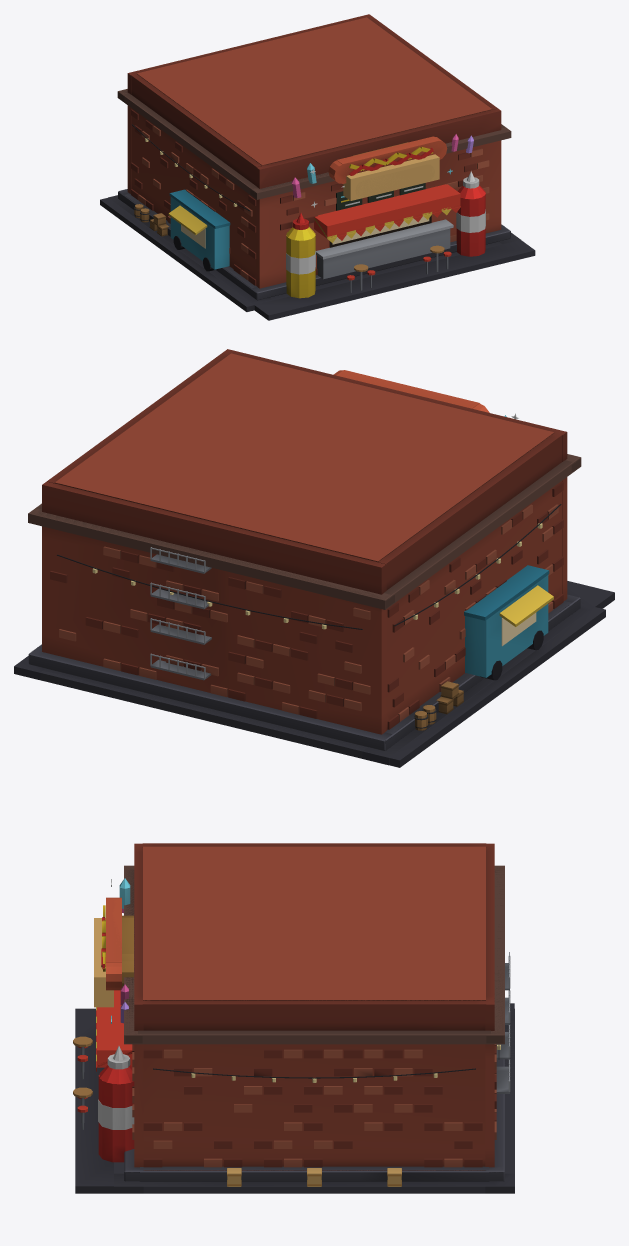
The model's file is CrystalHotDogFloor.fbx.
3 renders of one model, top to bottom at view 1: azimuth 30°, elevation 25°; view 2: azimuth 150°, elevation 25°; view 3: azimuth 270°, elevation 25°, orthographic. The views are drawn at different scales.
Visible parts, largest first — view 1: HD_S_All, HD_F_Rings, HD_F_Smooth, HD_F_Quiet, HD_F_Props, HD_F_Glass; view 2: HD_F_Rings, HD_S_All, HD_F_Smooth, HD_F_Quiet, HD_F_Props, HD_F_Glass; view 3: HD_S_All, HD_F_Rings, HD_F_Smooth, HD_F_Quiet, HD_F_Props.
Part boxes in pixels (<box>): HD_S_All: <box>109,17,511,309</box>; HD_F_Rings: <box>119,14,504,298</box>; HD_F_Smooth: <box>100,92,535,320</box>; HD_F_Quiet: <box>100,189,534,315</box>; HD_F_Props: <box>150,169,485,274</box>; HD_F_Glass: <box>145,134,473,248</box>; HD_F_Rings: <box>30,349,572,734</box>; HD_S_All: <box>14,353,581,764</box>; HD_F_Smooth: <box>14,370,614,767</box>; HD_F_Quiet: <box>15,581,614,760</box>; HD_F_Props: <box>428,585,553,714</box>; HD_F_Glass: <box>92,413,542,646</box>; HD_S_All: <box>94,846,514,1193</box>; HD_F_Rings: <box>98,843,503,1170</box>; HD_F_Smooth: <box>73,897,514,1193</box>; HD_F_Quiet: <box>75,1003,514,1186</box>; HD_F_Props: <box>98,887,401,1186</box>.
Bounding box in the file's own units: 60 × 20 × 60.
